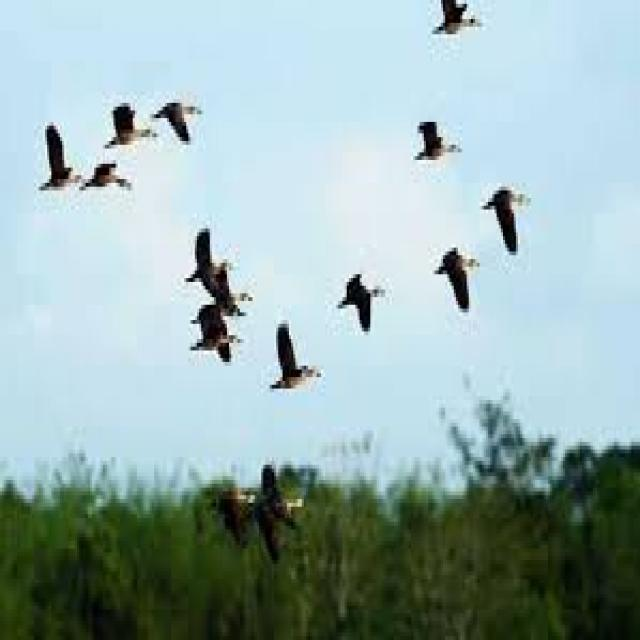bird: (170, 218, 258, 328), (408, 0, 512, 74), (256, 312, 333, 410), (86, 81, 160, 179), (474, 169, 540, 271), (30, 105, 86, 213), (393, 100, 461, 183), (144, 77, 208, 163), (331, 252, 393, 340), (76, 149, 142, 231), (182, 305, 246, 381), (430, 244, 482, 318)
